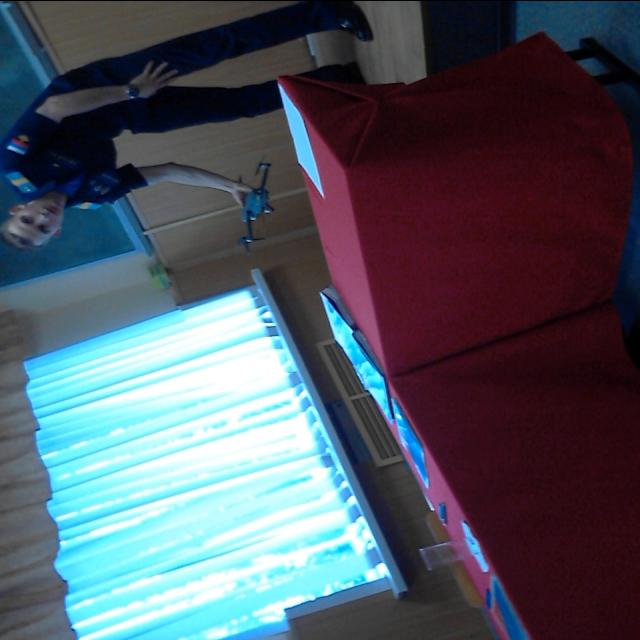drone: (213, 152, 285, 256)
